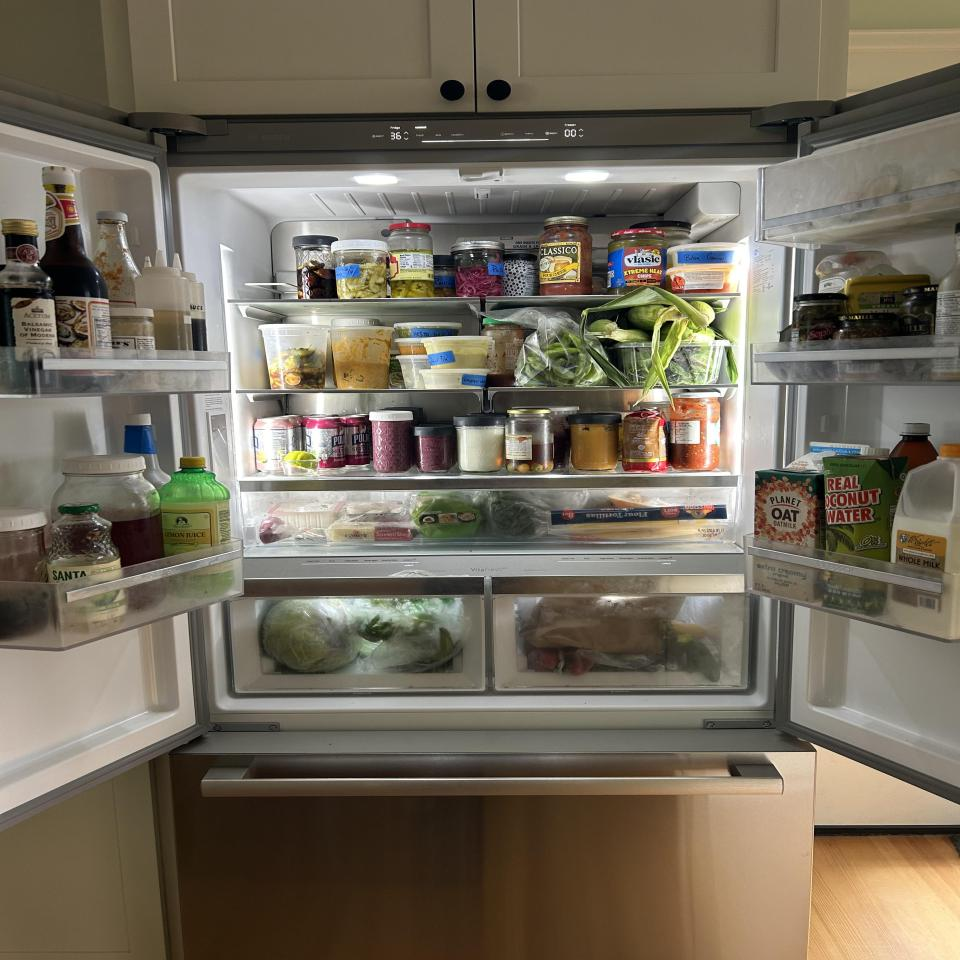Leche: (889, 443, 960, 640)
Lechuga/Endivia: (261, 599, 362, 670)
Pepino: (686, 642, 724, 682)
Queso: (545, 504, 727, 535), (330, 522, 417, 541)
